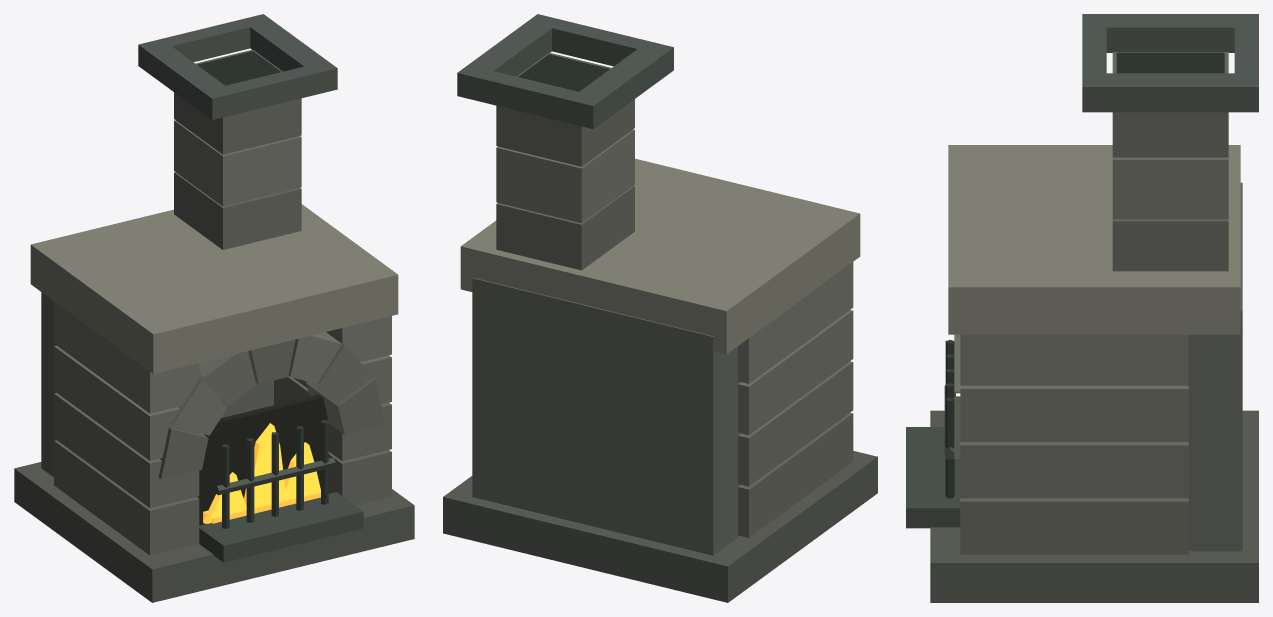
The model's file is furnace_lit.glb.
3 renders of one model, left to right at view 1: azimuth 30°, elevation 25°; view 2: azimuth 150°, elevation 25°; view 3: azimuth 270°, elevation 25°, orthographic. The views are drawn at different scales.
Parts seen in each view (by area): view 1: furnace_lit, 炉火; view 2: furnace_lit; view 3: furnace_lit.
Part boxes in pixels (x1=…): furnace_lit: x1=14, y1=14, x2=414, y2=602; 炉火: x1=203, y1=423, x2=320, y2=523; furnace_lit: x1=443, y1=14, x2=877, y2=602; furnace_lit: x1=906, y1=14, x2=1258, y2=602.
Bounding box in the file's own units: 0.9 × 1.4 × 0.88.
